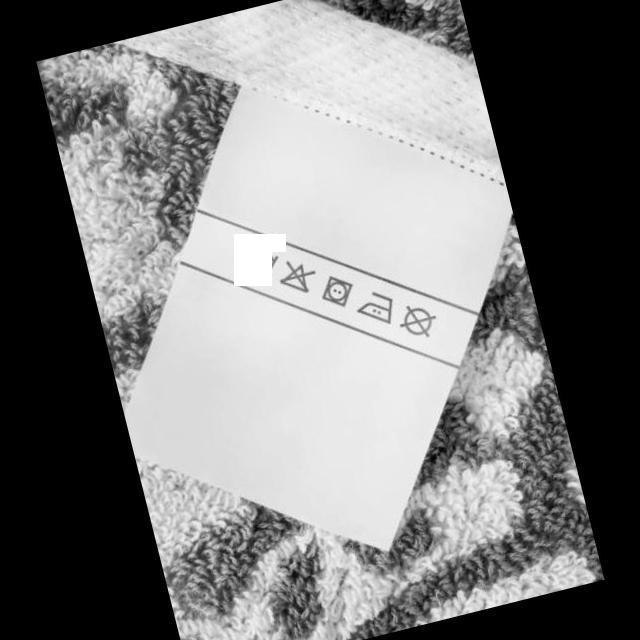DN_bleach: (272, 252, 320, 300)
DN_dry_clean: (394, 298, 442, 345)
iron_medium: (352, 284, 401, 332)
tumble_dry_medium: (314, 266, 358, 312)
